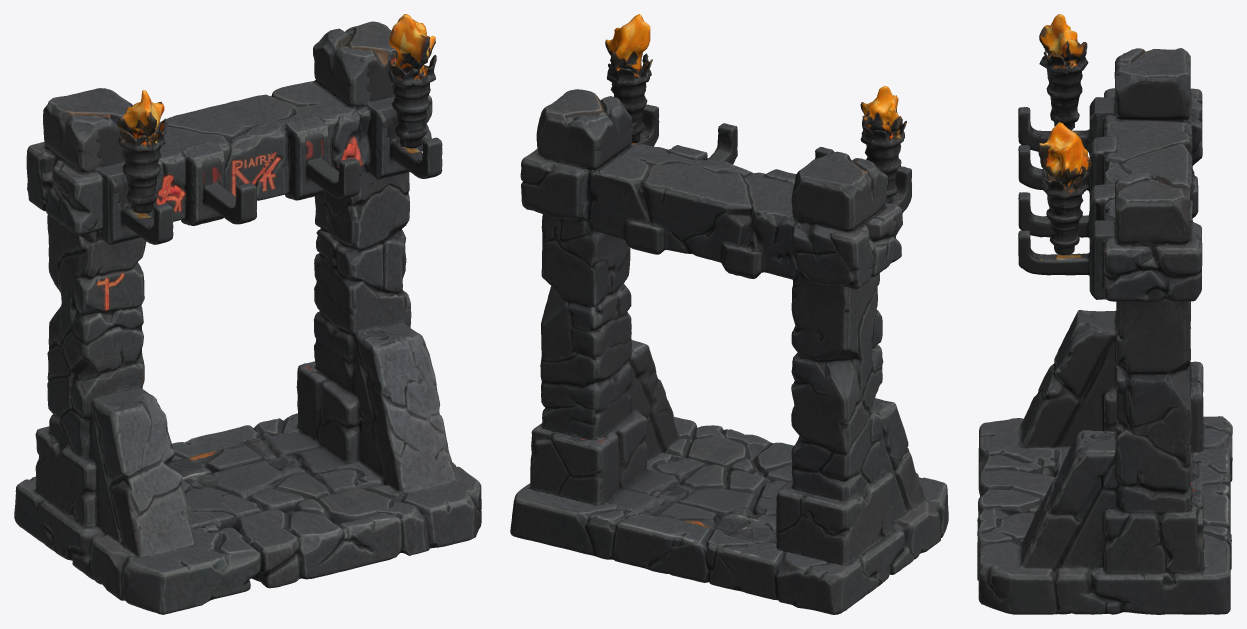
File: StoneWeaponRack.fbx
3 views of the same model, side by side, from view 1: azimuth 30°, elevation 25°; view 2: azimuth 150°, elevation 25°; view 3: azimuth 270°, elevation 25° (orthographic). The views are drawn at different scales.
Parts seen in each view (by area): view 1: texture_mapping; view 2: texture_mapping; view 3: texture_mapping.
Boxes of the visible parts, x1=… form: texture_mapping: x1=14, y1=14, x2=481, y2=614; texture_mapping: x1=510, y1=14, x2=948, y2=614; texture_mapping: x1=977, y1=14, x2=1232, y2=614.
Bounding box in the file's own units: 0.7492 × 0.4904 × 0.9973.
Materials: 1 (1 with a texture image).
